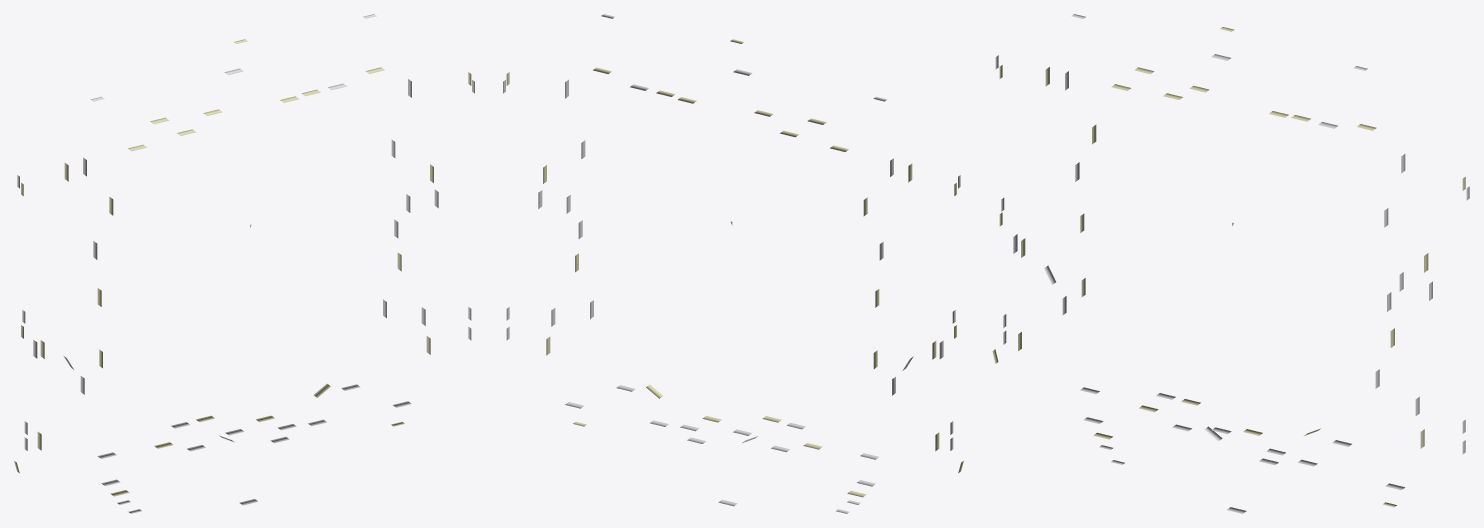
The model's file is SM_000347_merge_w40fa_fartree02.fbx.
The picture shows the model from 3 angles, left to right: view 1: azimuth 30°, elevation 25°; view 2: azimuth 150°, elevation 25°; view 3: azimuth 330°, elevation 25°; orthographic projection. The views are drawn at different scales.
Parts seen in each view (by area): view 1: SM_000347.001; view 2: SM_000347.001; view 3: SM_000347.001.
Part boxes in pixels (x1=…): SM_000347.001: x1=14, y1=14, x2=474, y2=513; SM_000347.001: x1=503, y1=14, x2=963, y2=513; SM_000347.001: x1=992, y1=14, x2=1469, y2=513.
Bounding box in the file's own units: 687 × 664 × 13.1.
